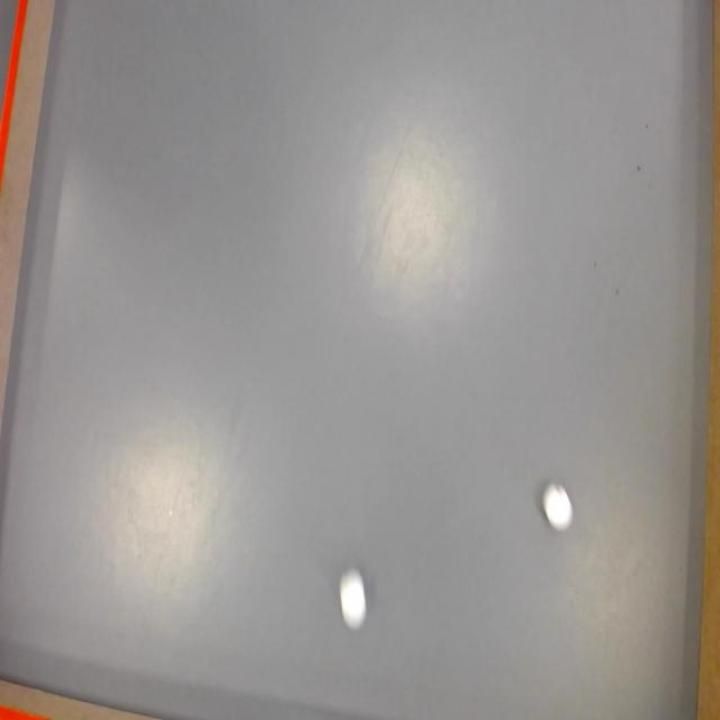white: (340, 566, 368, 631), (543, 484, 574, 533)
